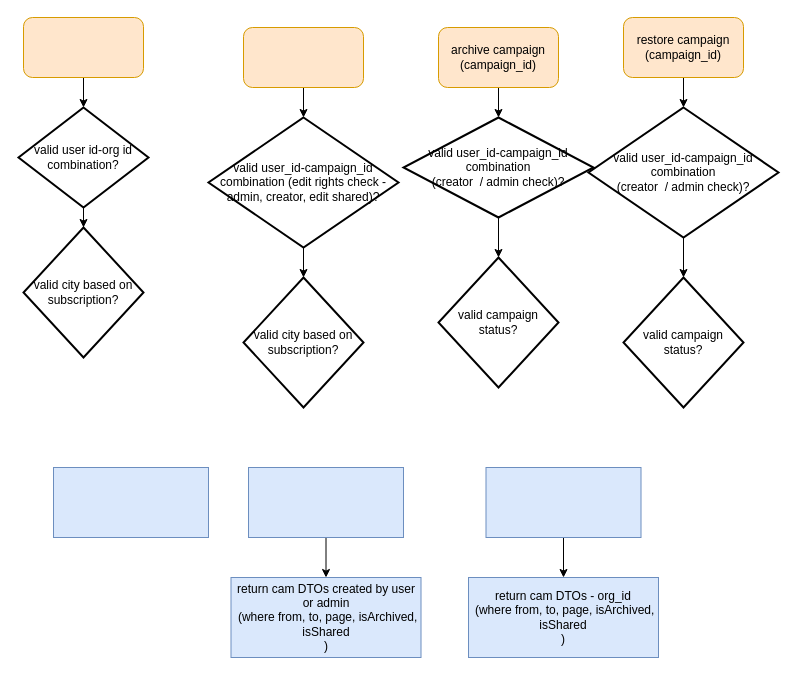
The diagram is 796 pixels wide and 675 high, and some of its shapes have lost their labels. Here are the shapes that lost their labels. From the top down, the centre of each, then its label:
At (x=83, y=47): "create campaign (campaign_bean)".
At (x=303, y=57): "update campaign (campaign_id, campaign_bean)".
At (x=130, y=502): "findByCampaignID (campaign_id)".
At (x=326, y=502): "search campaign (user_id, from, to, page, isArchived, isShared)".
At (x=563, y=502): "search campaign {org_id, from, to, page, isArchived}".
